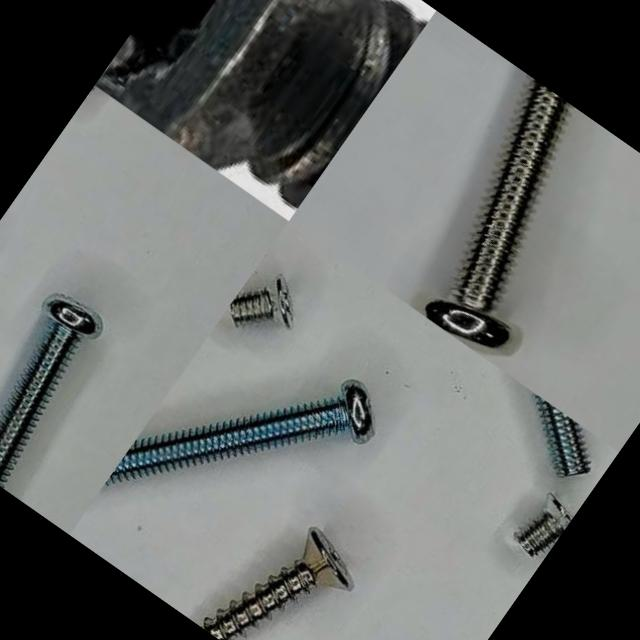Screw: (94, 0, 425, 209), (426, 79, 570, 348), (103, 380, 374, 485), (0, 295, 102, 488), (200, 528, 351, 640), (533, 393, 591, 476), (514, 493, 572, 557), (229, 275, 291, 328)
